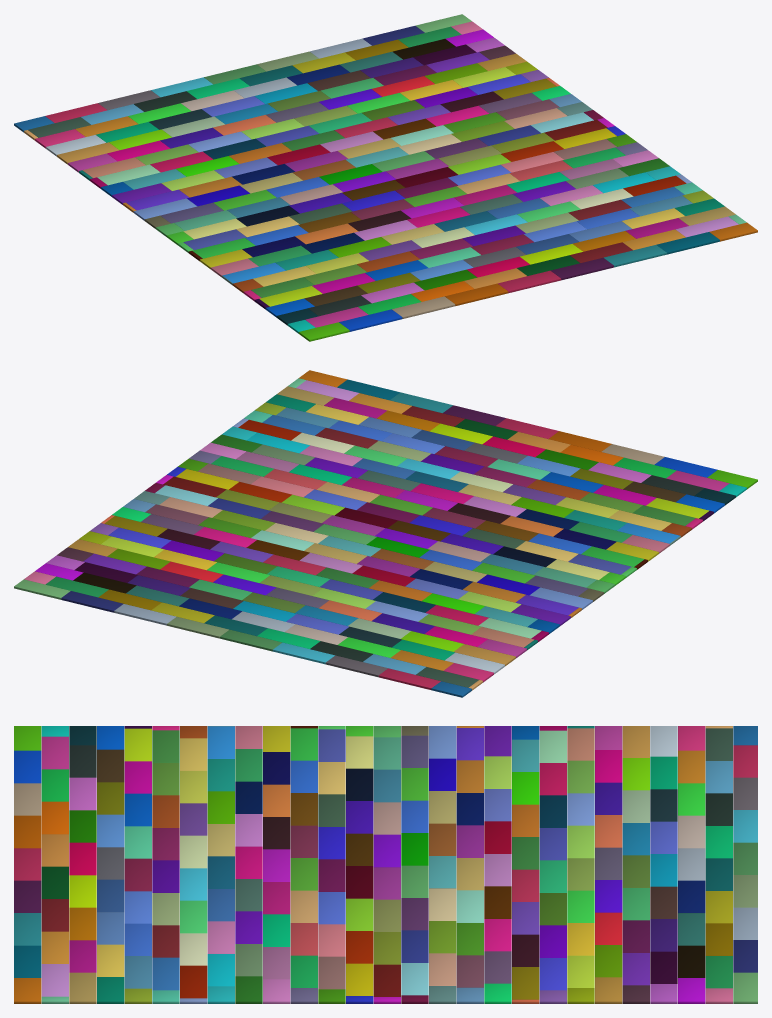
Rendered from piso.fbx.
The picture shows the model from 3 angles, top to bottom: view 1: azimuth 30°, elevation 25°; view 2: azimuth 150°, elevation 25°; view 3: azimuth 270°, elevation 25°; orthographic projection. The views are drawn at different scales.
Parts seen in each view (by area): view 1: FloorBoard; view 2: FloorBoard; view 3: FloorBoard.
Part boxes in pixels (<box>): FloorBoard: <box>14,14,757,341</box>; FloorBoard: <box>14,370,757,697</box>; FloorBoard: <box>14,726,757,1003</box>.
Bounding box in the file's own units: 4.24 × 0.018 × 4.84.
